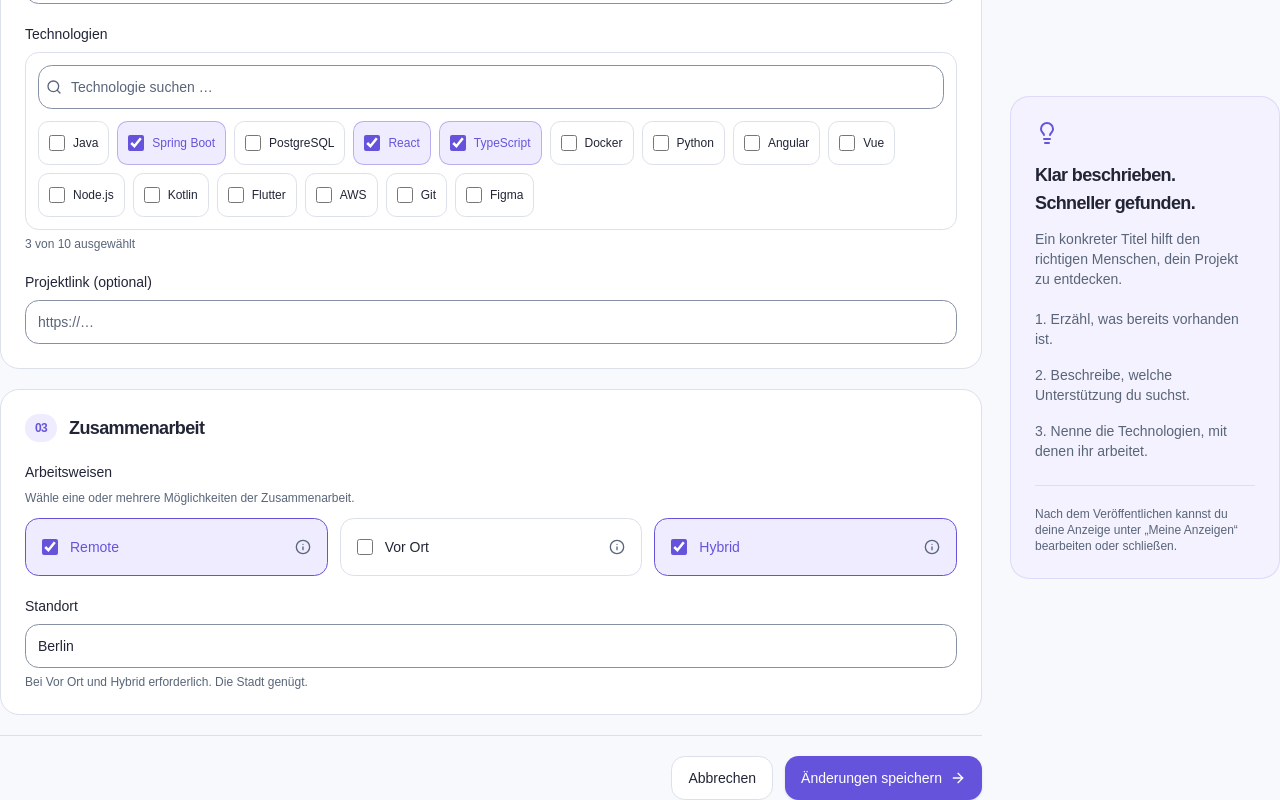
Test: Arbeitsweisen: Formulare und Anzeige › belegt mehrere Werte im Edit-Formular vor und speichert Änderungen
(page scrolled)
Expected: the checkbox labelled "Remote" is checked, [42,539,58,555]
Expected: the checkbox labelled "Hybrid" is checked, [671,539,687,555]
Click the checkbox labelled "Vor Ort".
click(365, 547)  # box [357,539,373,555]
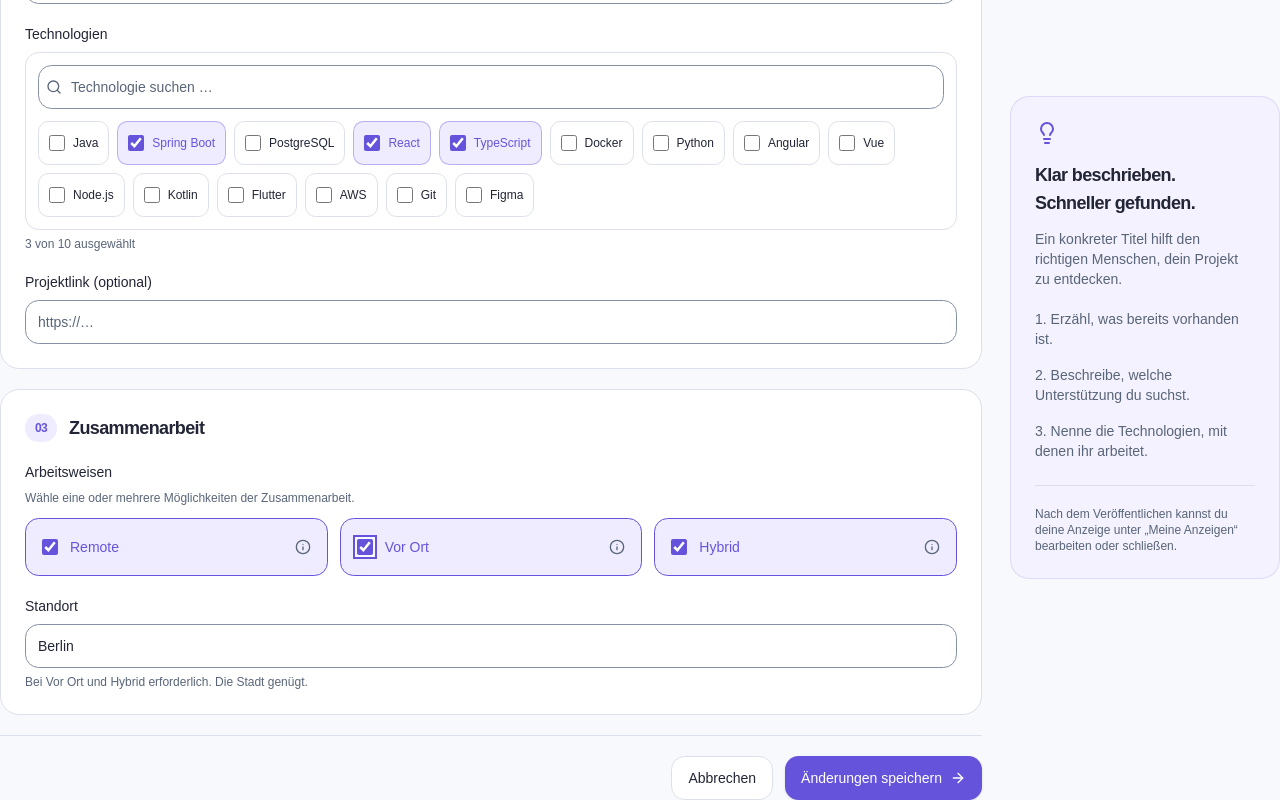
Click the button "Änderungen speichern".
click(884, 778)  # box [785,756,982,799]
(page scrolled)
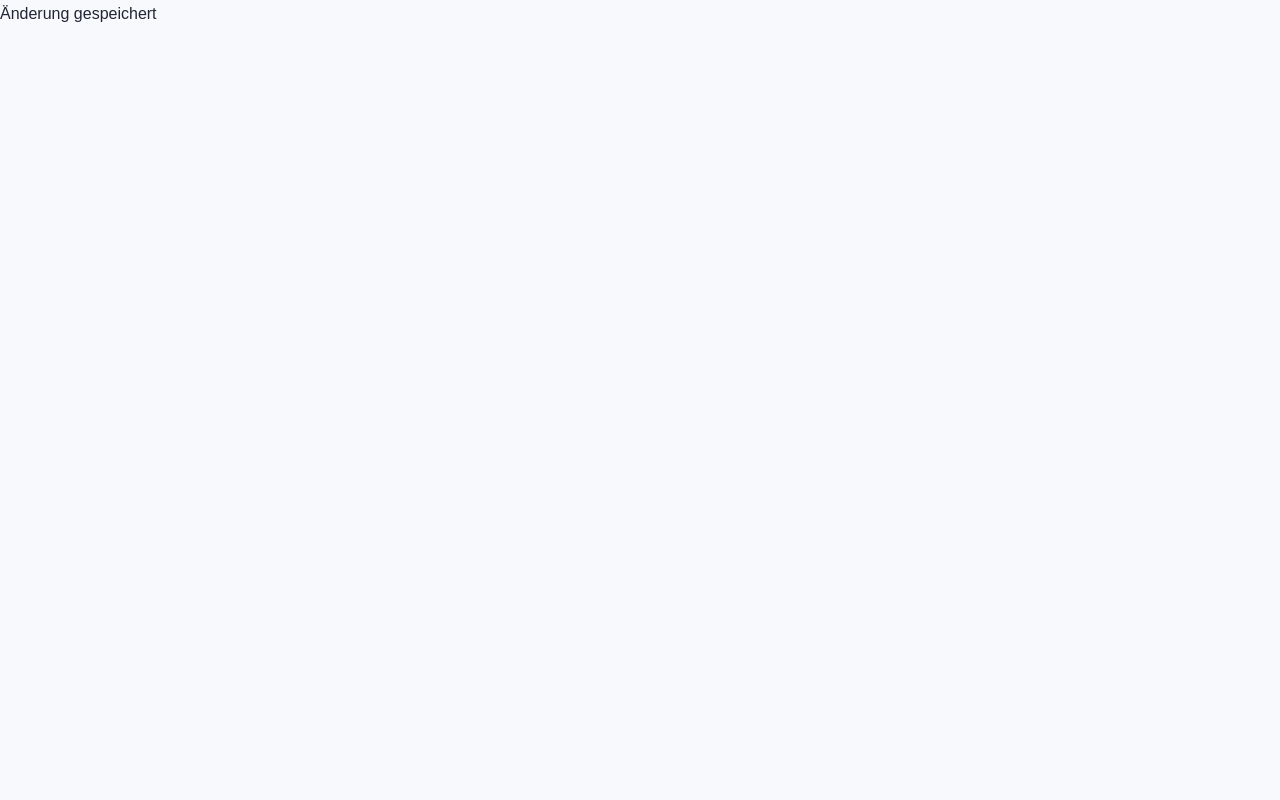
Expected: the text "Änderung gespeichert" is shown, [0,5,157,22]
